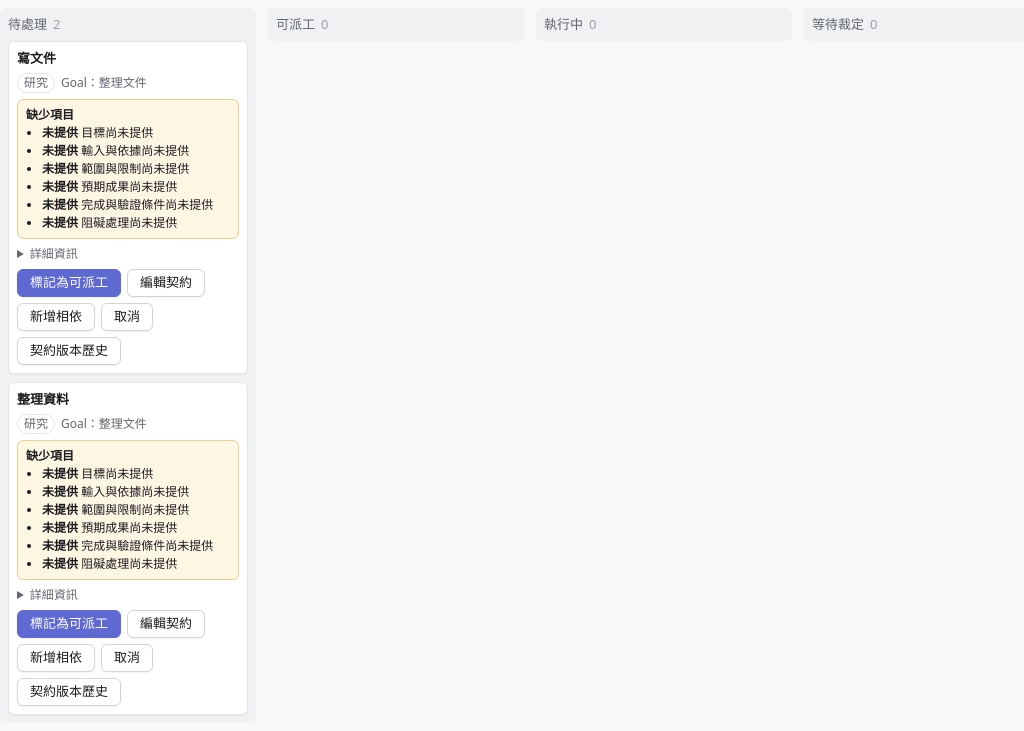
Test: 工作面板 › 新增相依失敗（例如循環）時顯示 Runtime 的說明
(page scrolled)
Click the button "新增相依" below "整理資料" at (56, 658), box [17,644,95,672]
(page scrolled)
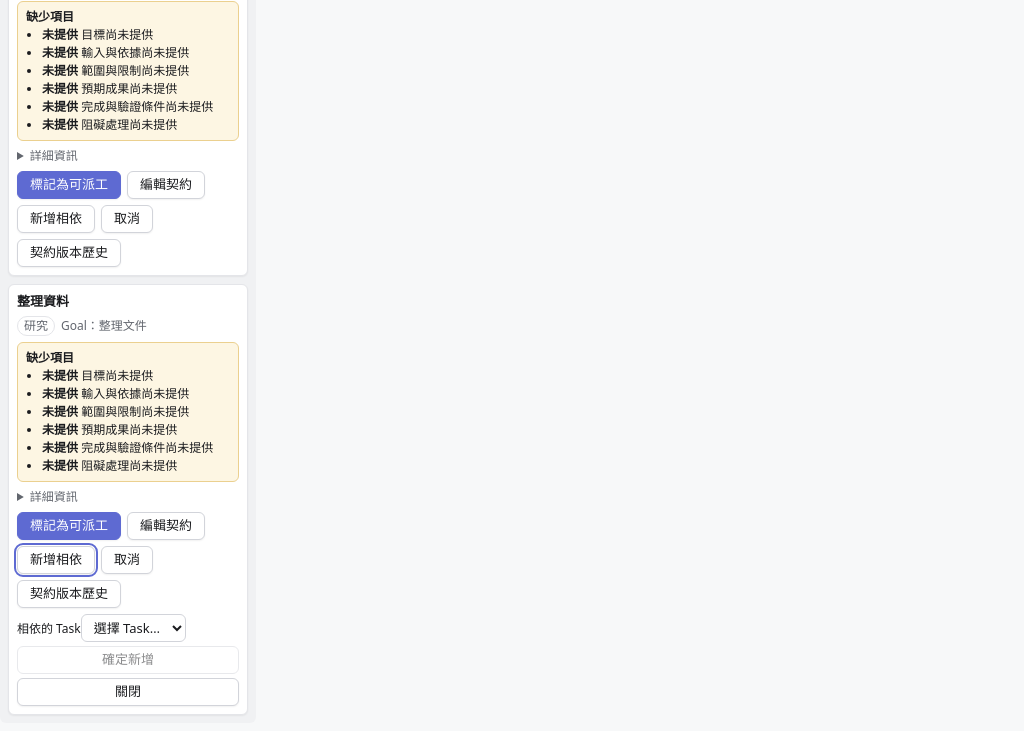
Select "寫文件" in the dropdown labelled "相依的 Task" at (133, 628), box [81,614,186,642]
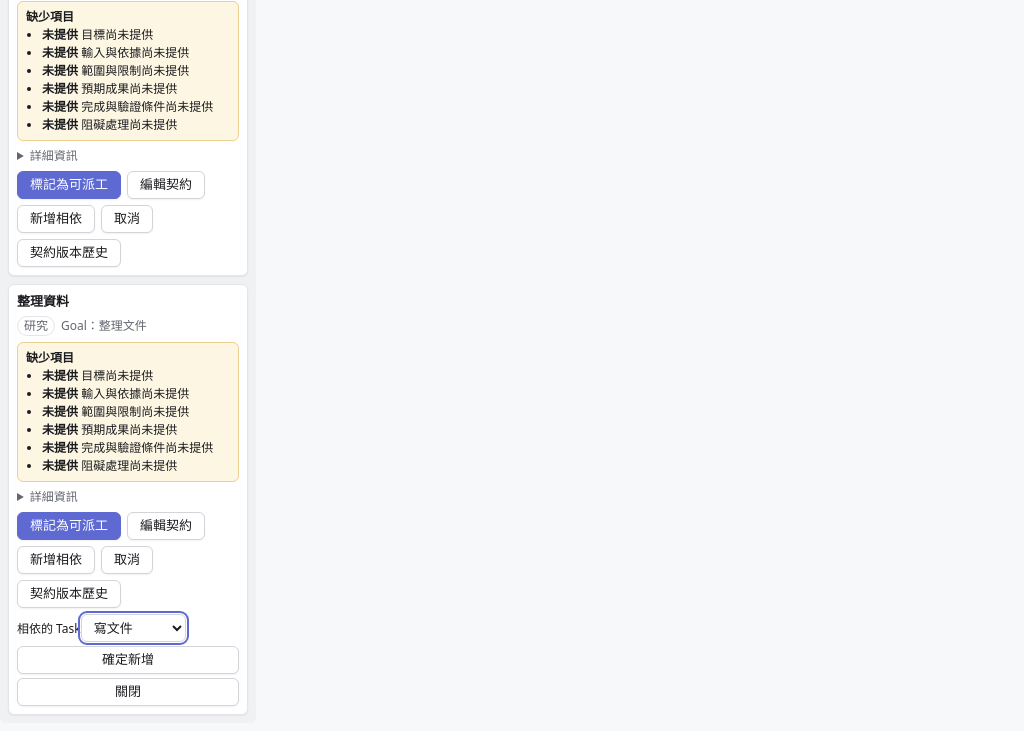
Click the button "確定新增" at (128, 660), box [17,646,239,674]
(page scrolled)
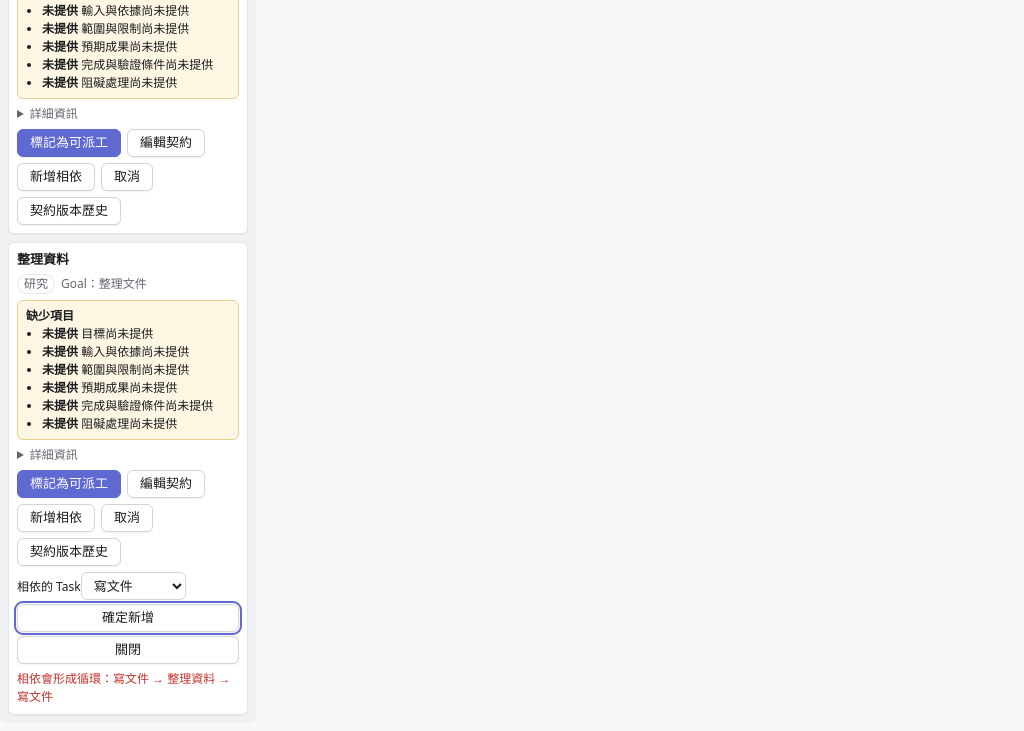
Result: the message shows "相依會形成循環" at [17,670,230,705]
